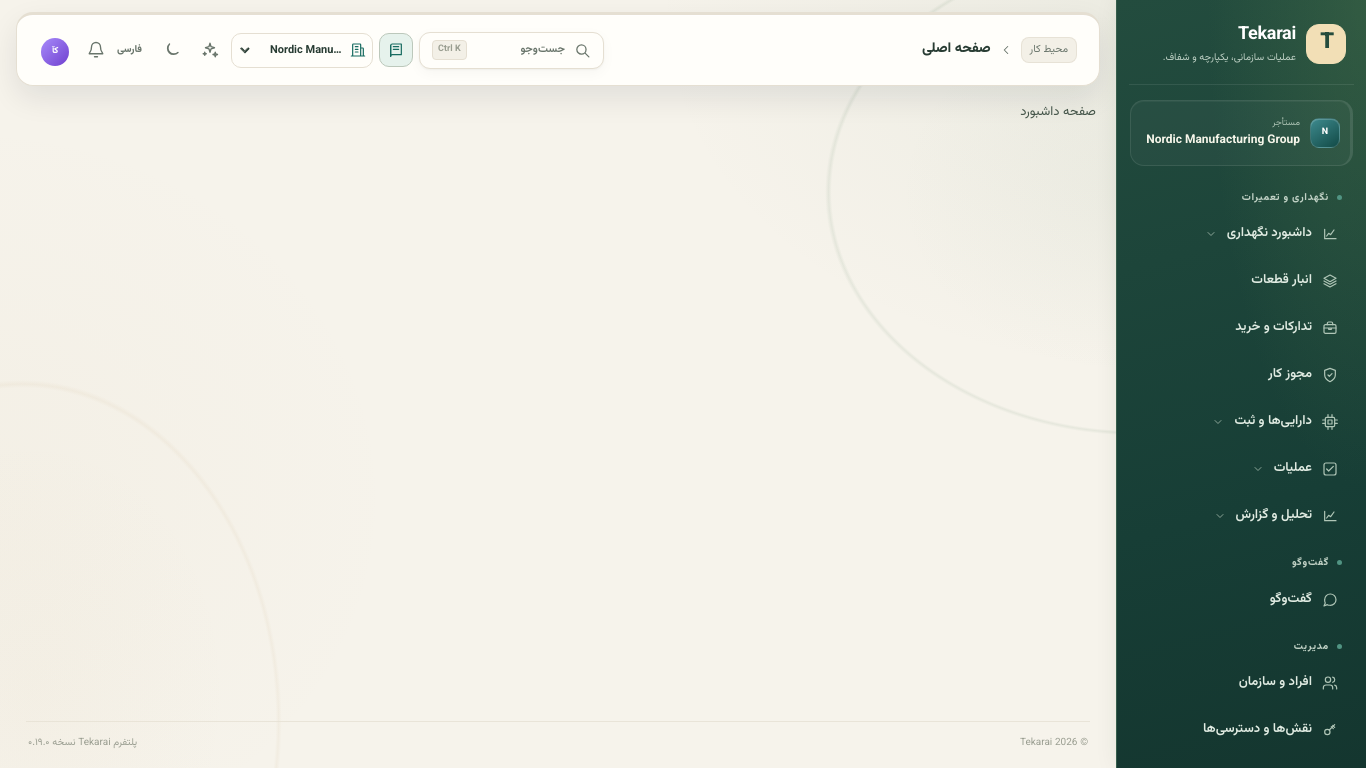
Scenario: the sidebar — سایدبار روشن › expands a sub-menu in place and navigates on pick
(page scrolled)
Expected: the element with class "sidenav" is shown, [1116, 0, 1365, 767]
Step 1. Click the button "عملیات" → (1295, 469), box [1240, 448, 1350, 490]
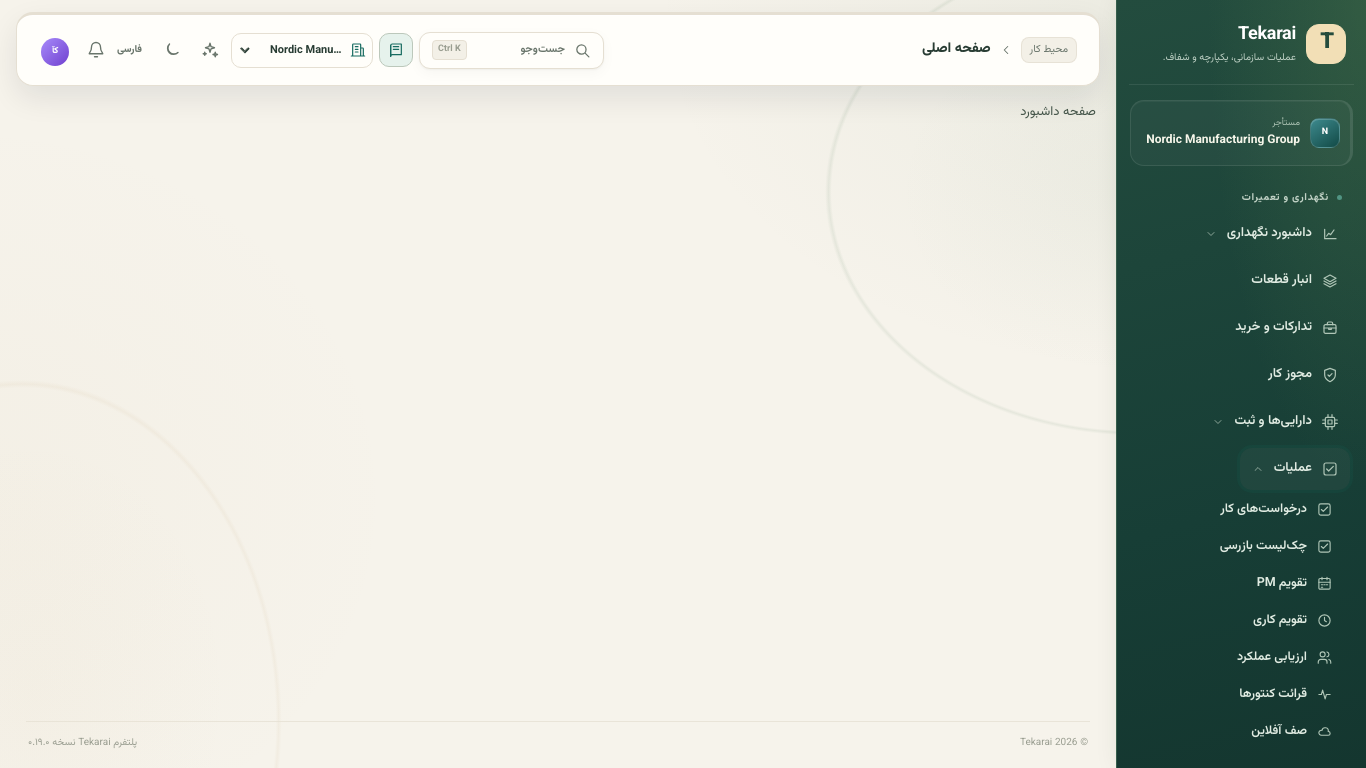
Expected: the element with class "sidenav" is shown, [1116, 0, 1365, 767]
Expected: the link "درخواست‌های کار" is shown
Step 2. Click the link "درخواست‌های کار" → (1276, 508), box [1220, 498, 1332, 518]
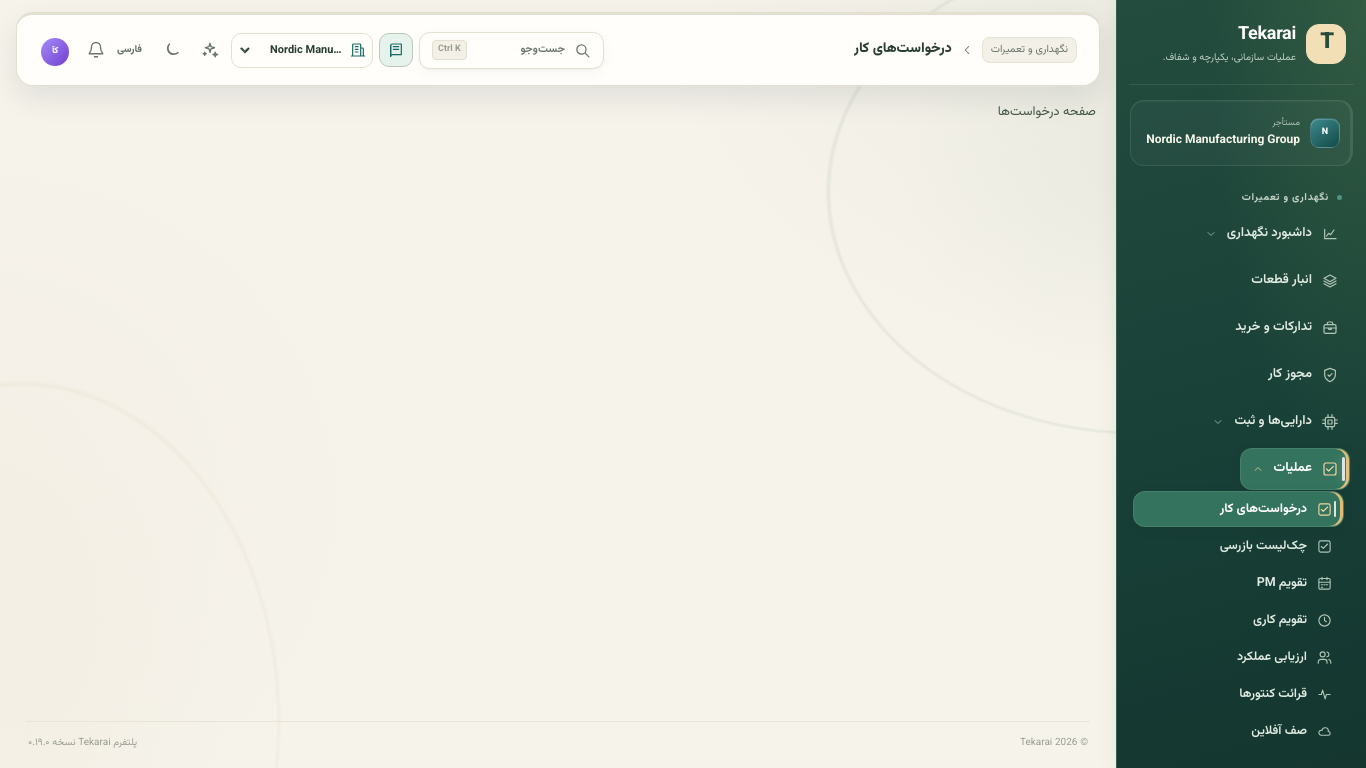
Expected: the text "صفحه درخواست‌ها" is shown, [998, 102, 1096, 122]
